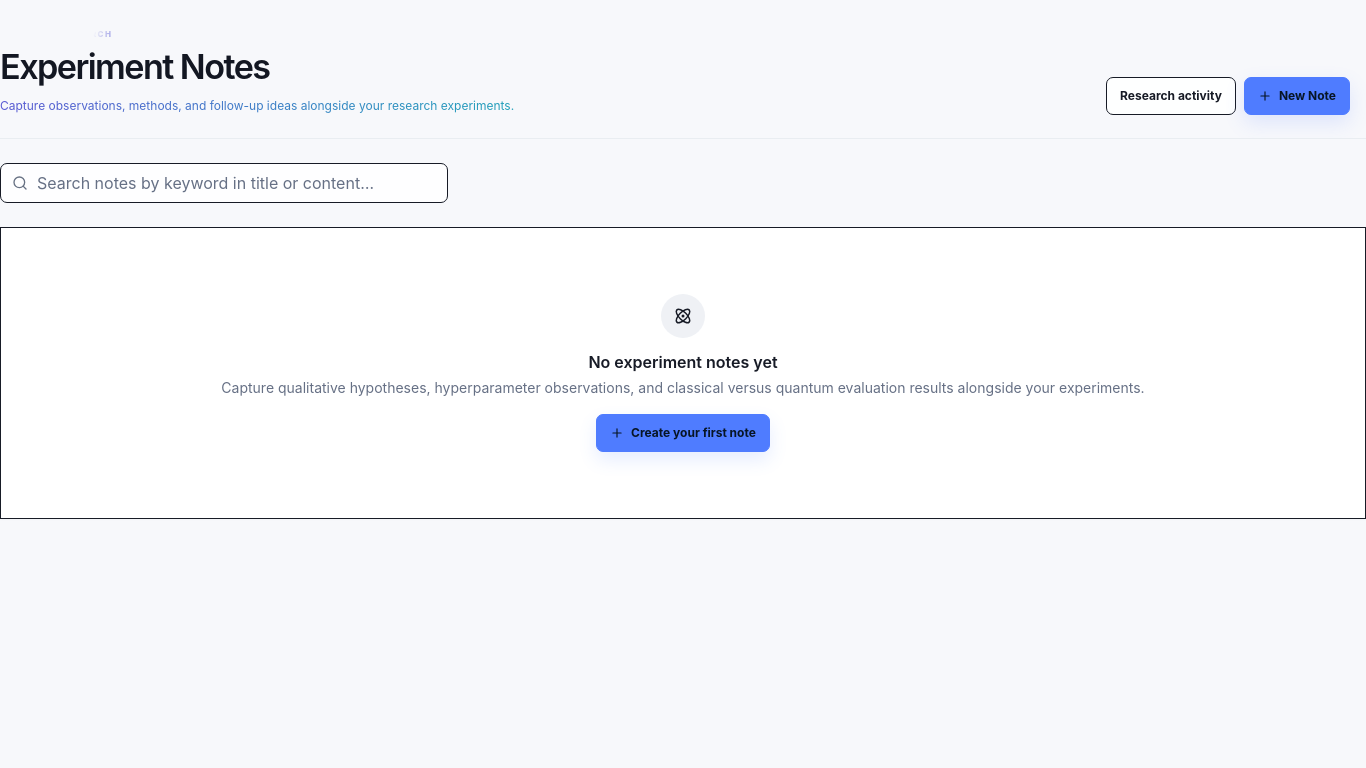
it: Experiment Notes UI — Note Creation & Validation › preserves form contents and displays error banner when creation fails
Expected: the heading "No experiment notes yet" is shown, 588,352 -> 778,372
Click the button "New Note". click: (1297, 96)
box: 1244,77 -> 1350,115
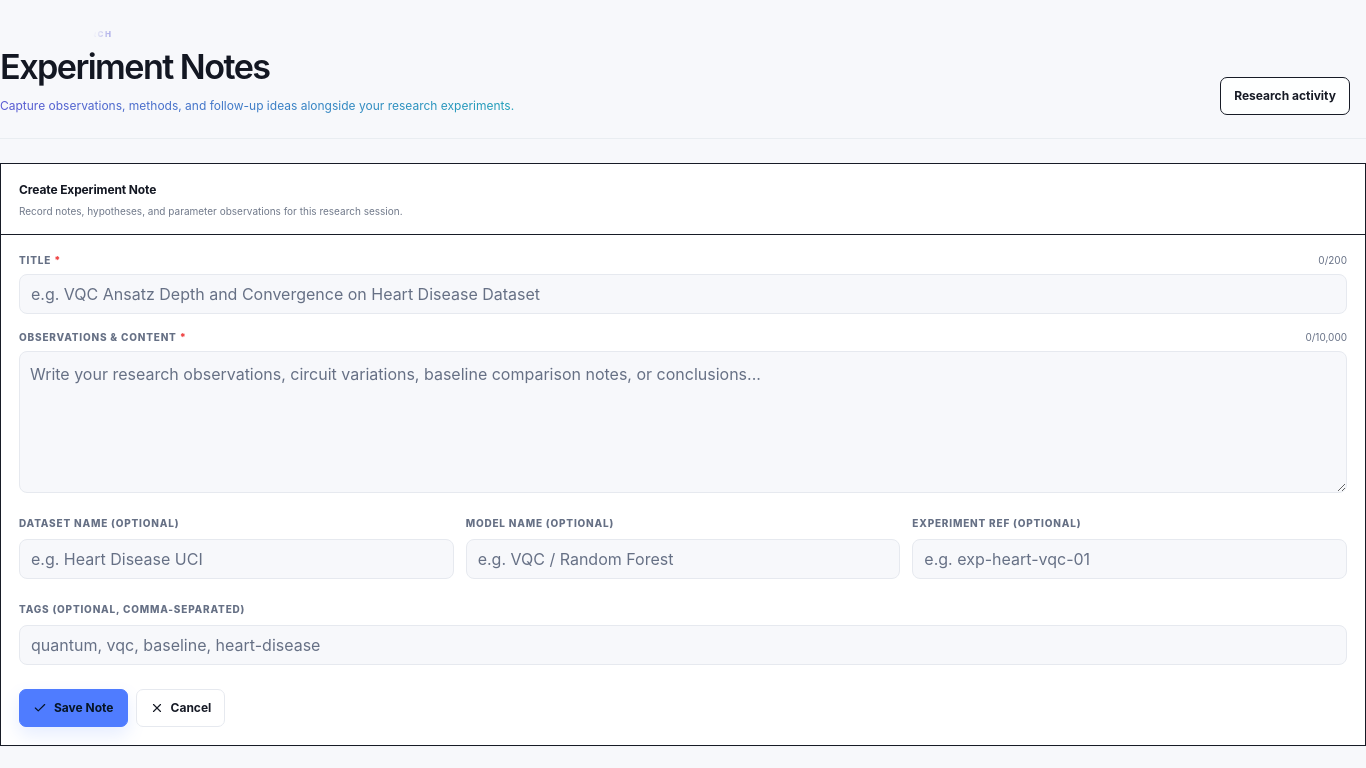
Replace the text in the field with placeholder "e.g. VQC Ansatz Depth" with "My Failed Note". click: (683, 294)
box: 19,274 -> 1347,314
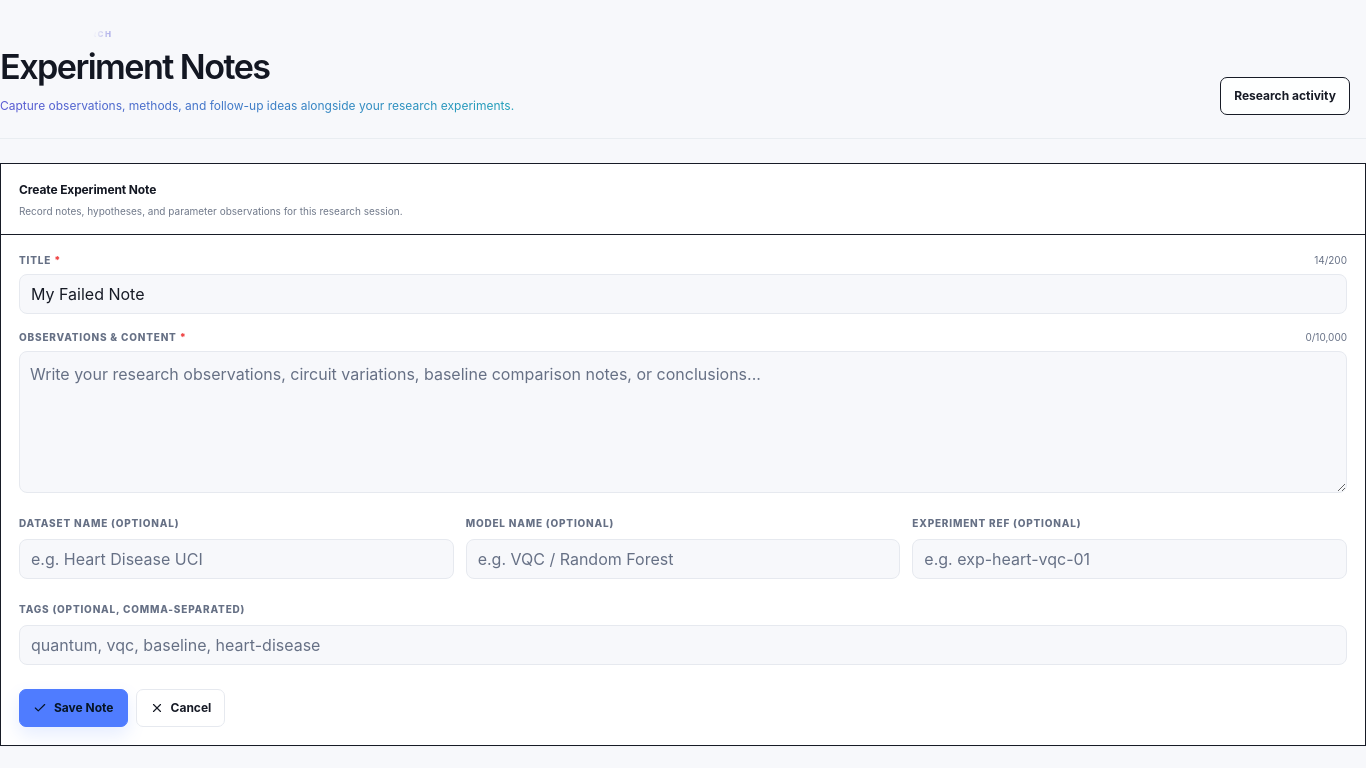
Replace the text in the text box with placeholder "Write your research observations" with "Important observations". click: (683, 422)
box: 19,351 -> 1347,493
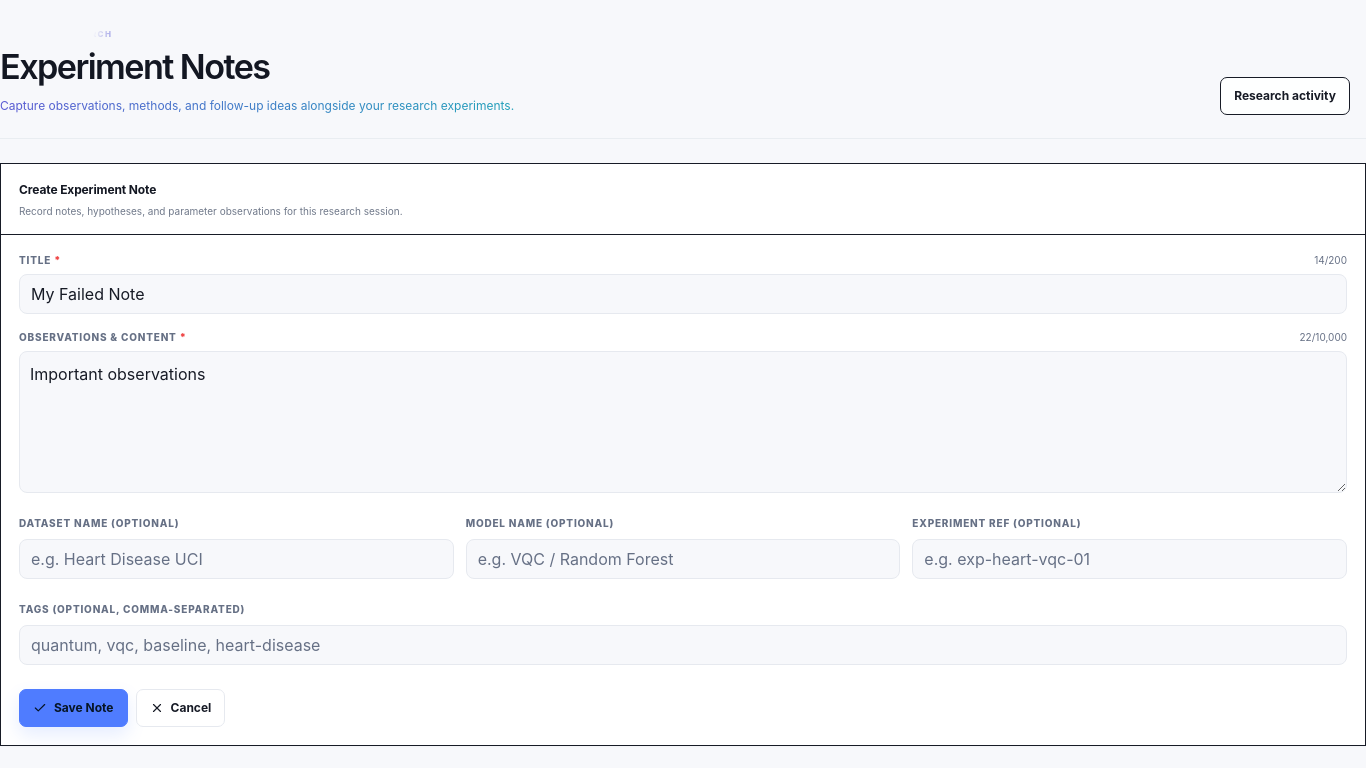
Click the button "Save Note". click: (73, 708)
box: 19,689 -> 128,727
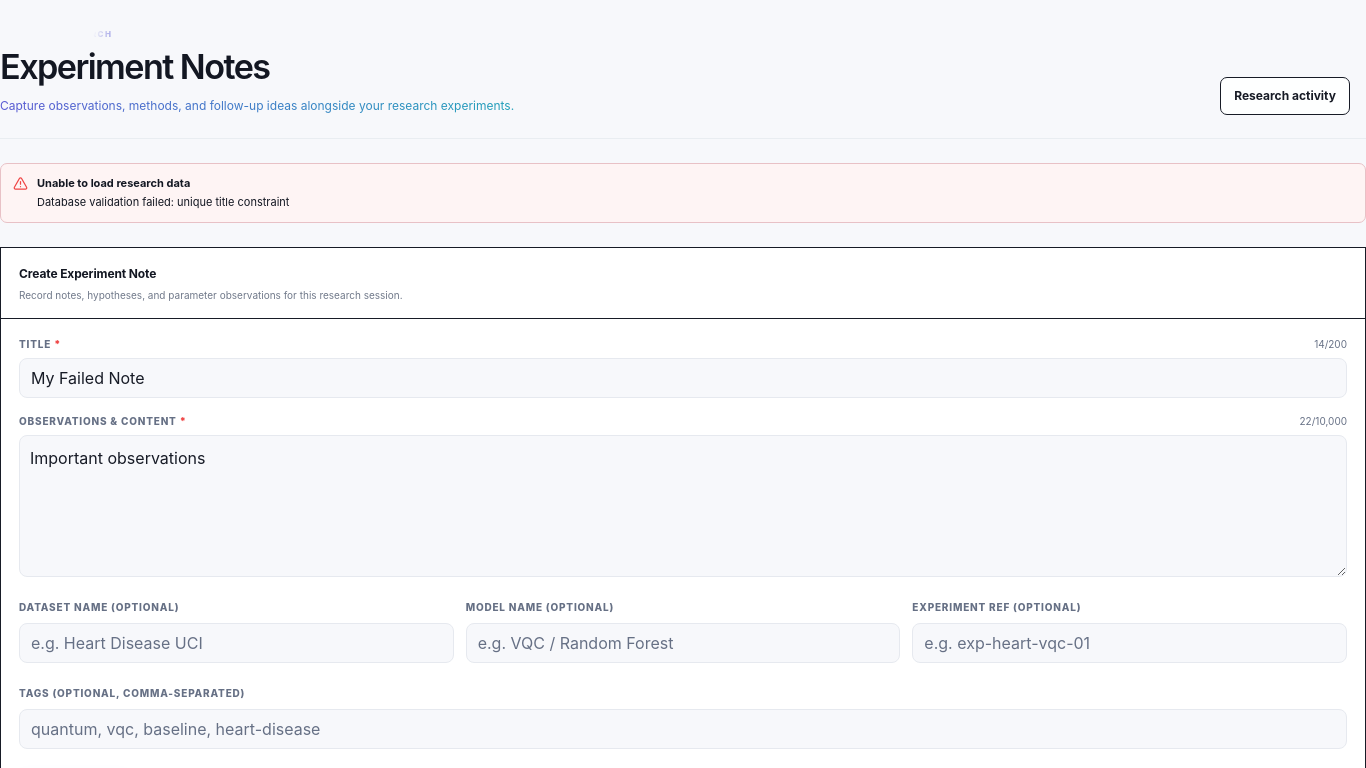
Expected: the text "Database validation failed: unique title constraint" is shown, 37,194 -> 289,211
